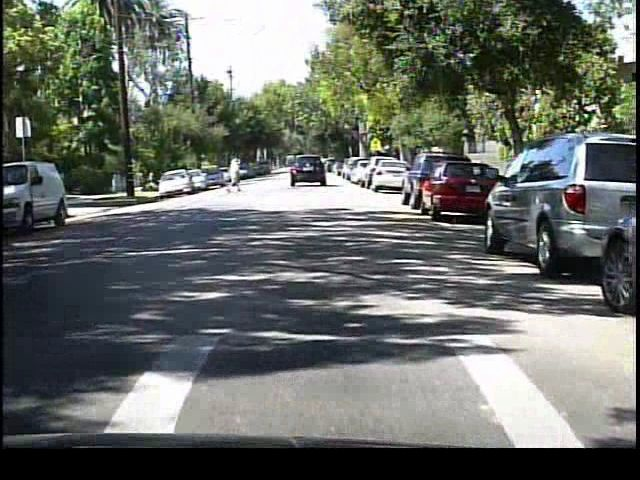person: (224, 152, 246, 195)
